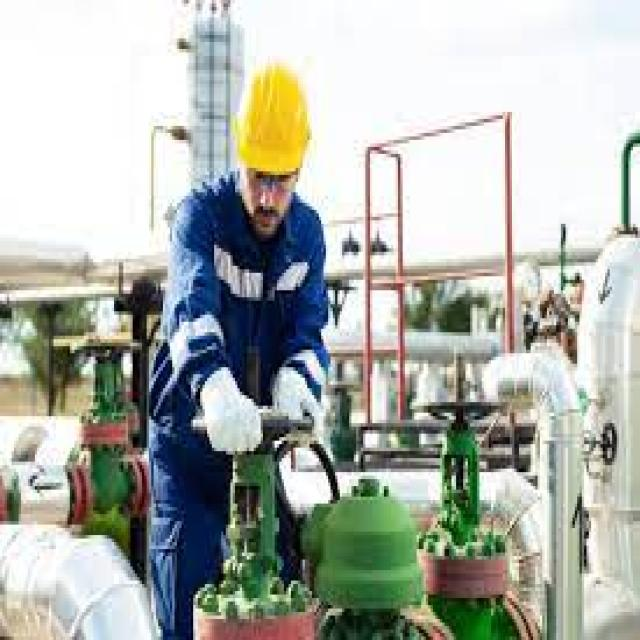vest: (149, 178, 330, 639)
